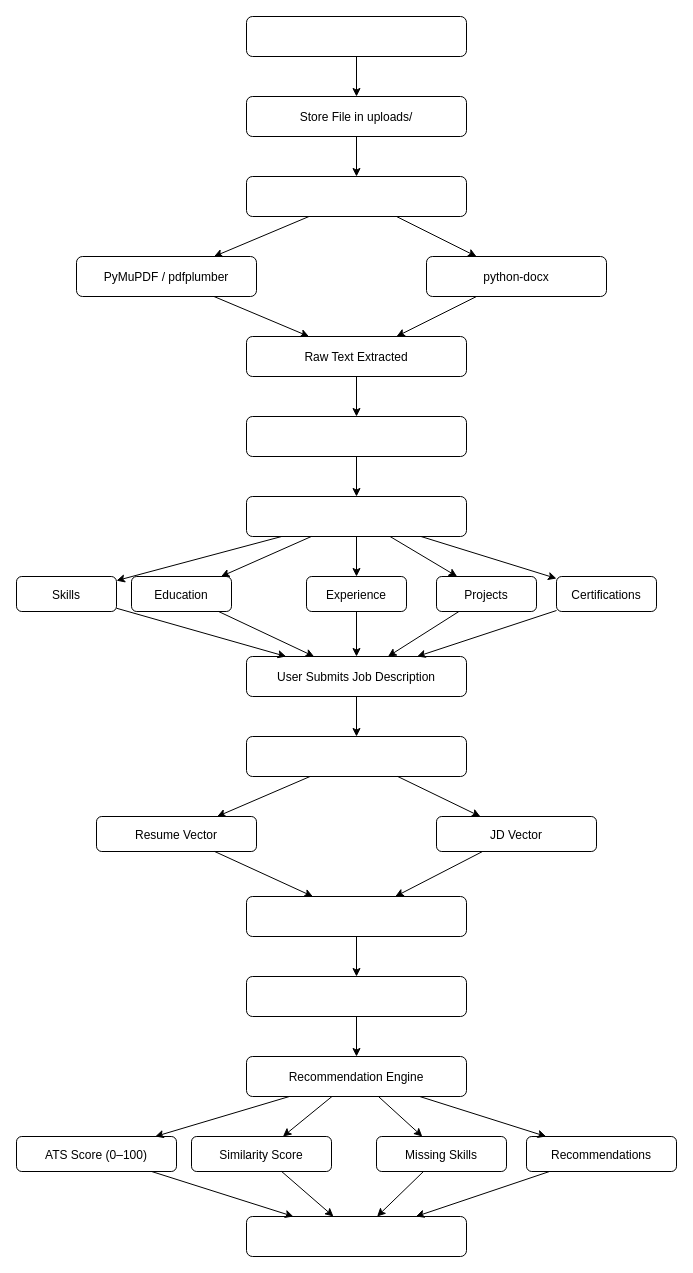
Image size: 693x1273. Some labels were removed from this diagram. Each missing label, with the centre of its shape:
ATS Scoring Engine: the point at 356,996
Document Parser: the point at 356,196
Embedding Engine (Sentence Transformers): the point at 356,756
JSON Response Returned to User: the point at 356,1236
Resume Parser (spaCy NLP): the point at 356,516
Similarity Engine (Cosine Similarity): the point at 356,916
Text Cleaner: the point at 356,436
User Uploads Resume (PDF / DOCX): the point at 356,36
